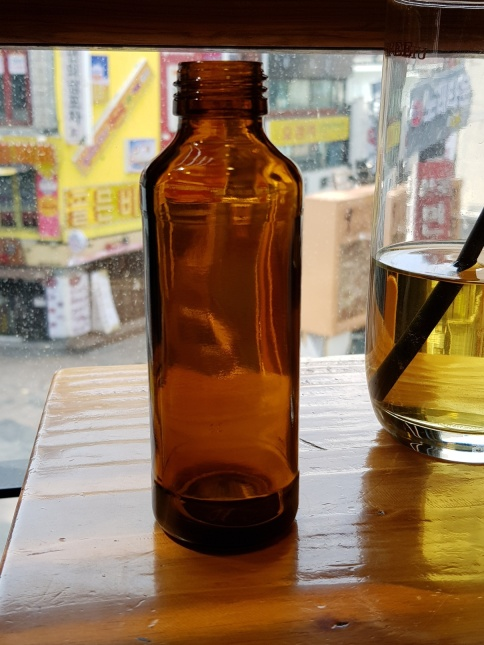Glass: (137, 59, 305, 556)
